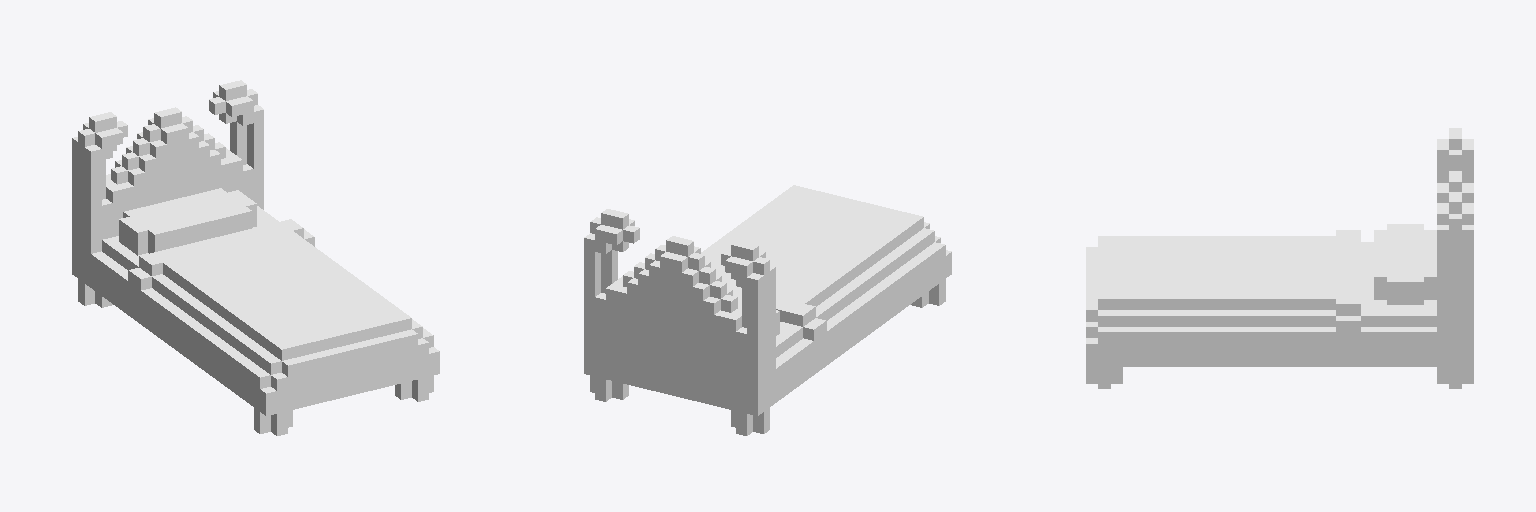
File: Interior_Furniture_Bed_Single_03.obj
3 views of the same model, side by side, from view 1: azimuth 30°, elevation 25°; view 2: azimuth 150°, elevation 25°; view 3: azimuth 270°, elevation 25° (orthographic).
Visible parts, largest first — view 1: object 1; view 2: object 1; view 3: object 1.
Part boxes in pixels (bbox=[...]): object 1: bbox=[72, 80, 439, 435]; object 1: bbox=[584, 185, 951, 435]; object 1: bbox=[1086, 128, 1473, 388].
Size of the model in its own units: 1.6 by 1.6 by 3.1.